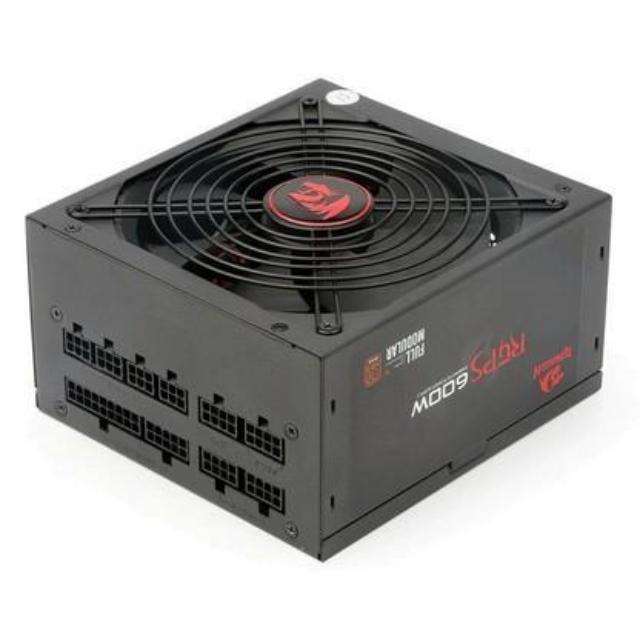PSU: (19, 70, 614, 572)
